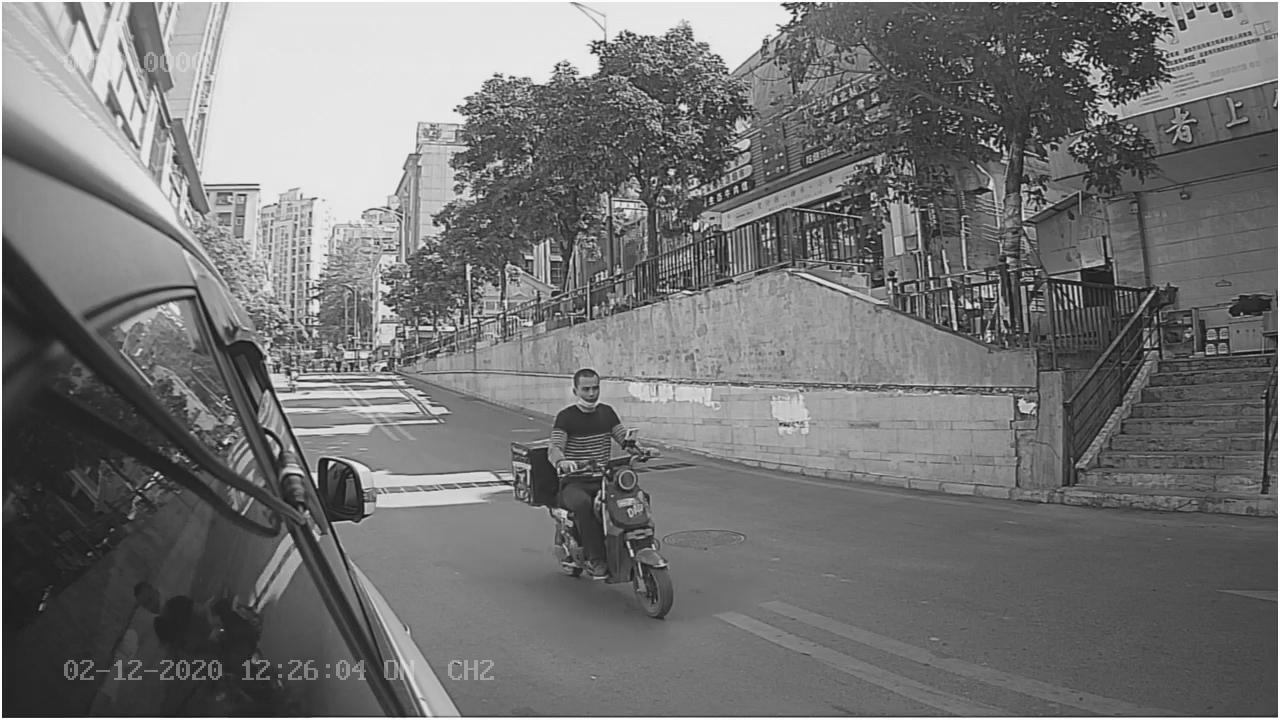person: (543, 364, 661, 472)
